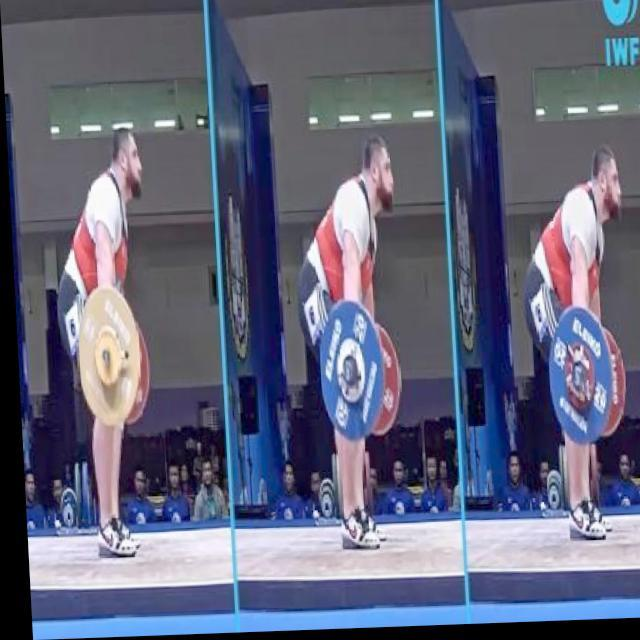barbell: (63, 281, 144, 438), (539, 305, 617, 456), (306, 300, 383, 448)
